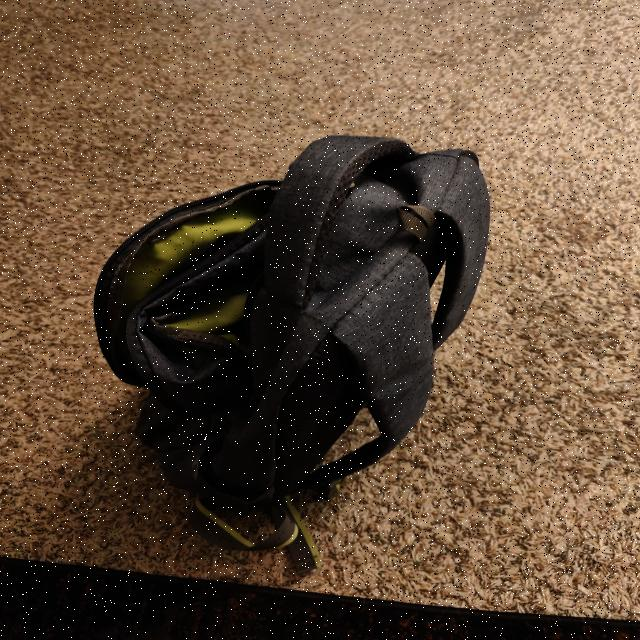bag: (76, 156, 471, 508)
